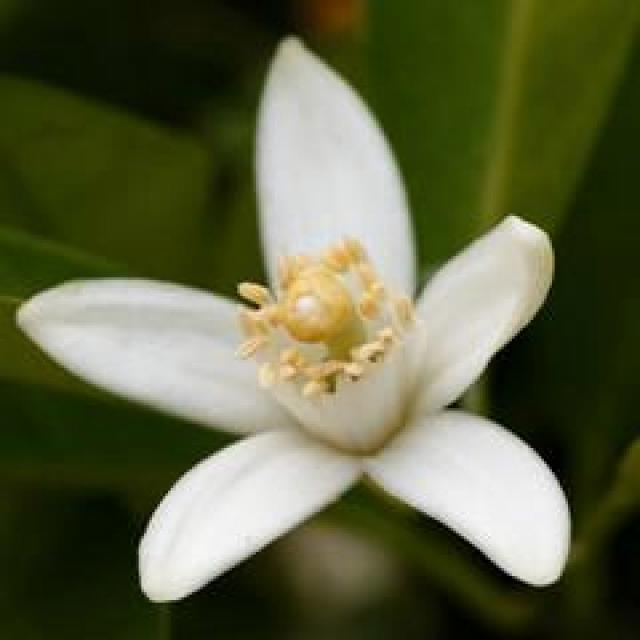Bunga: (16, 32, 571, 603)
